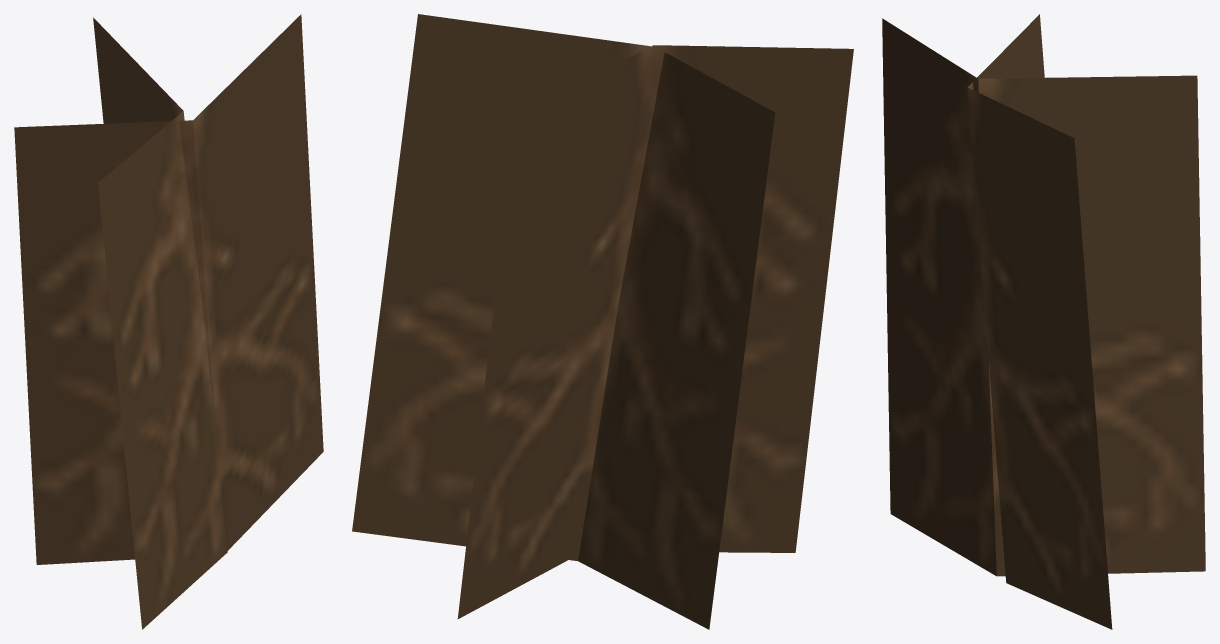
Rendered from common_reed_5.FBX.
3 views of the same model, side by side, from view 1: azimuth 30°, elevation 25°; view 2: azimuth 150°, elevation 25°; view 3: azimuth 270°, elevation 25° (orthographic). The views are drawn at different scales.
Parts seen in each view (by area): view 1: Object018; view 2: Object018; view 3: Object018.
Part boxes in pixels (x1,y1,x2,y2): Object018: (14, 14, 323, 629); Object018: (352, 14, 853, 629); Object018: (882, 14, 1205, 629).
Size of the model in its own units: 50.73 by 68.79 by 40.36.
1 material, 1 textured.
